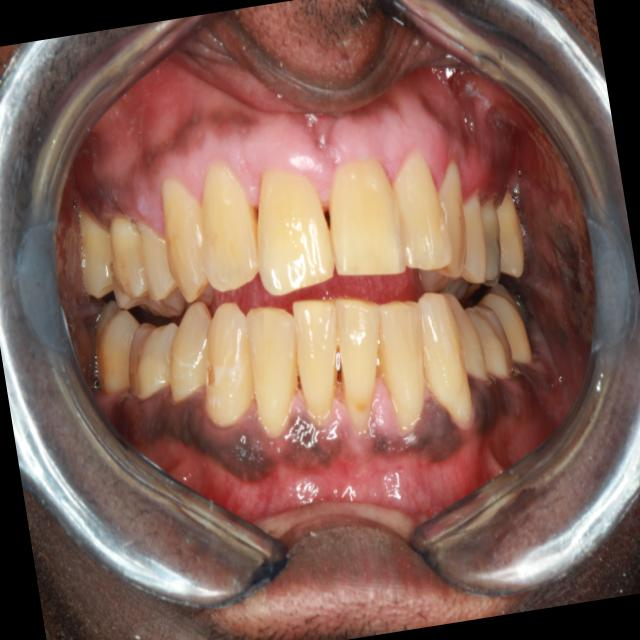tooth: (238, 137, 349, 309), (310, 147, 416, 296), (179, 143, 270, 304), (136, 155, 223, 313), (322, 280, 403, 446), (377, 127, 457, 290), (235, 292, 313, 456), (369, 284, 445, 452), (409, 281, 485, 438), (283, 283, 357, 439), (195, 293, 269, 440), (122, 197, 195, 324), (423, 137, 482, 292), (159, 288, 222, 407), (80, 292, 147, 403), (459, 287, 525, 396), (120, 311, 185, 417), (104, 257, 193, 330), (439, 281, 496, 393), (475, 278, 538, 372), (67, 199, 121, 308), (98, 205, 154, 306), (452, 171, 496, 293), (488, 179, 533, 288), (469, 182, 513, 293)
